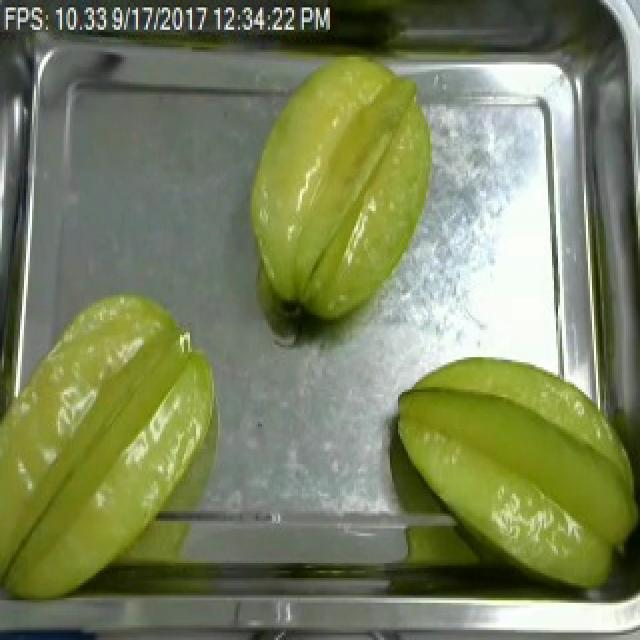fruit: (0, 276, 228, 610), (384, 345, 640, 598), (232, 47, 444, 335)
